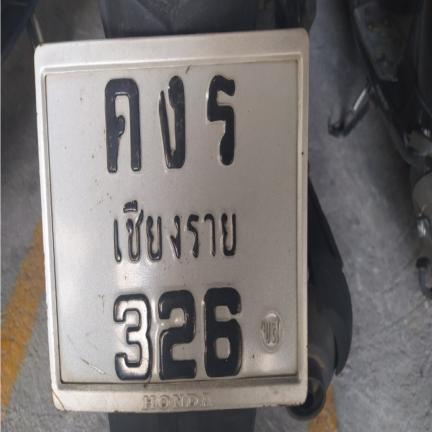2: (156, 289, 200, 387)
3: (104, 290, 155, 386)
6: (204, 284, 248, 380)
A04: (101, 75, 143, 176)
A07: (151, 72, 191, 178)
A35: (200, 65, 244, 168)
CRI: (107, 193, 251, 269)
